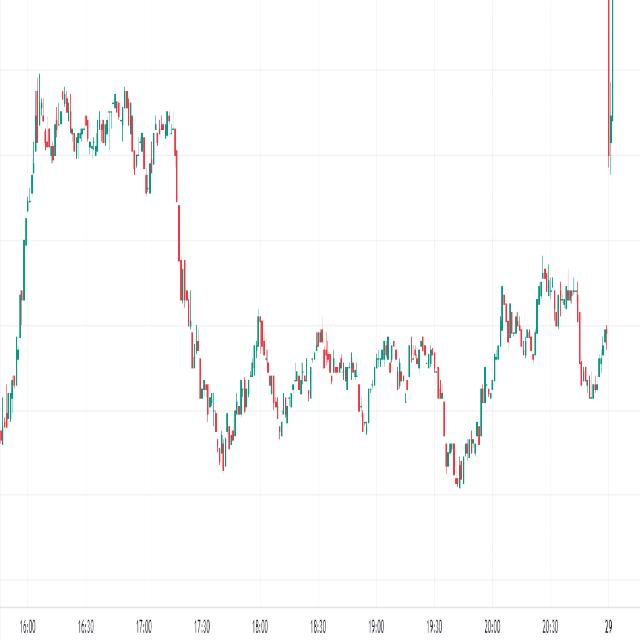Descending-Triangle: (494, 268, 544, 363)
rectangle: (228, 305, 450, 448), (30, 72, 138, 178)
